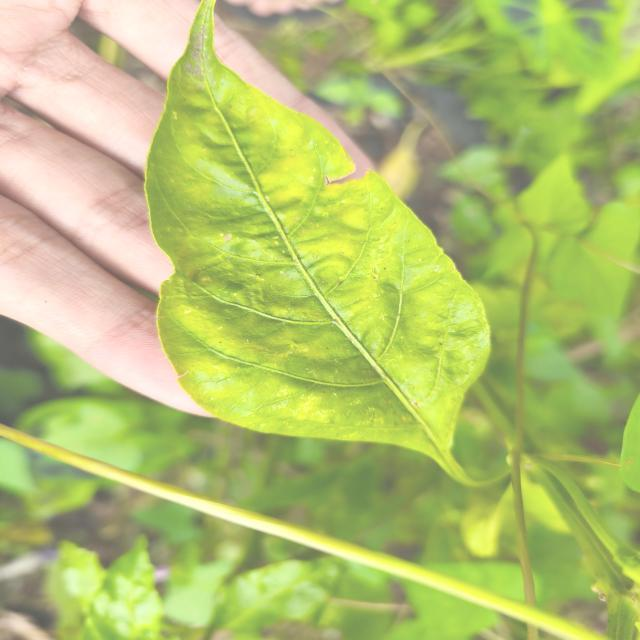Virus Kuning: (142, 2, 495, 454)
